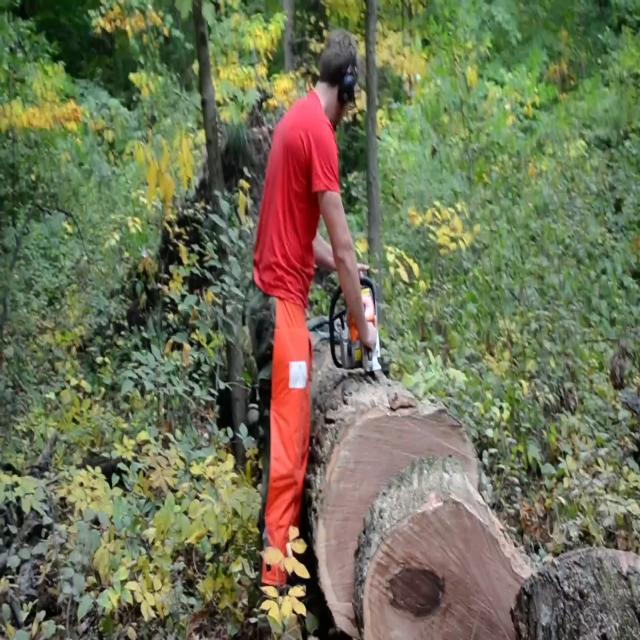Chainsaw: (320, 243, 398, 388)
